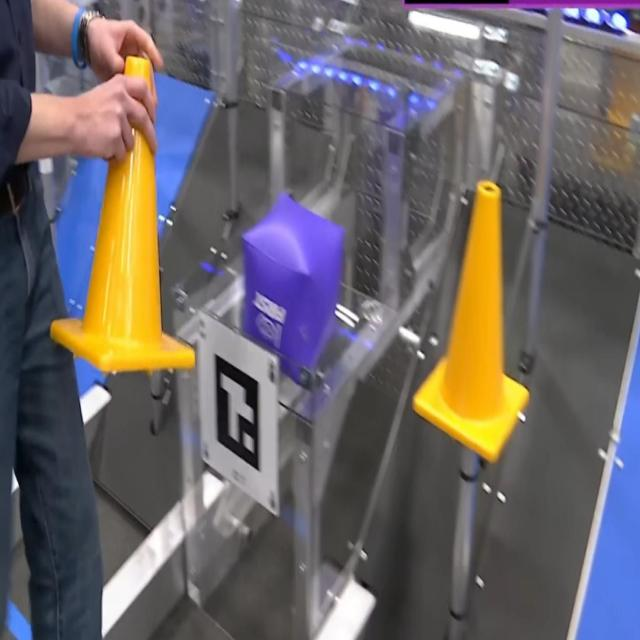frc_cone: (51, 55, 196, 372), (411, 180, 530, 464)
frc_cube: (243, 194, 344, 384)
